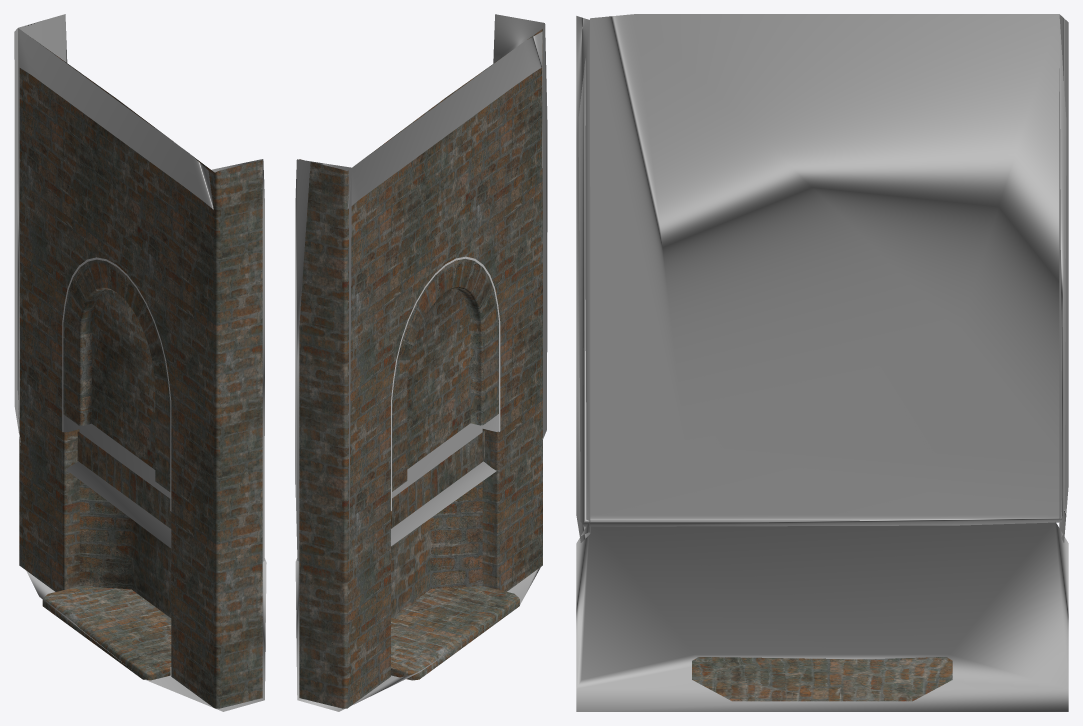
Rendered from SM_Wall_04.gltf.
The picture shows the model from 3 angles, left to right: view 1: azimuth 30°, elevation 25°; view 2: azimuth 150°, elevation 25°; view 3: azimuth 270°, elevation 25°; orthographic projection. The views are drawn at different scales.
Parts seen in each view (by area): view 1: SM_Wall_04_LOD0, SM_Wall_04_ConvexHulls; view 2: SM_Wall_04_LOD0, SM_Wall_04_ConvexHulls; view 3: SM_Wall_04_ConvexHulls, SM_Wall_04_LOD0.
Boxes of the visible parts, <box> form: SM_Wall_04_LOD0: <box>19,40,262,708</box>; SM_Wall_04_ConvexHulls: <box>14,14,266,711</box>; SM_Wall_04_LOD0: <box>299,29,542,708</box>; SM_Wall_04_ConvexHulls: <box>295,14,547,711</box>; SM_Wall_04_ConvexHulls: <box>576,14,1068,711</box>; SM_Wall_04_LOD0: <box>692,657,952,701</box>.
Size of what is drawn, in the model's own units: 1.19 by 5.75 by 3.83.
